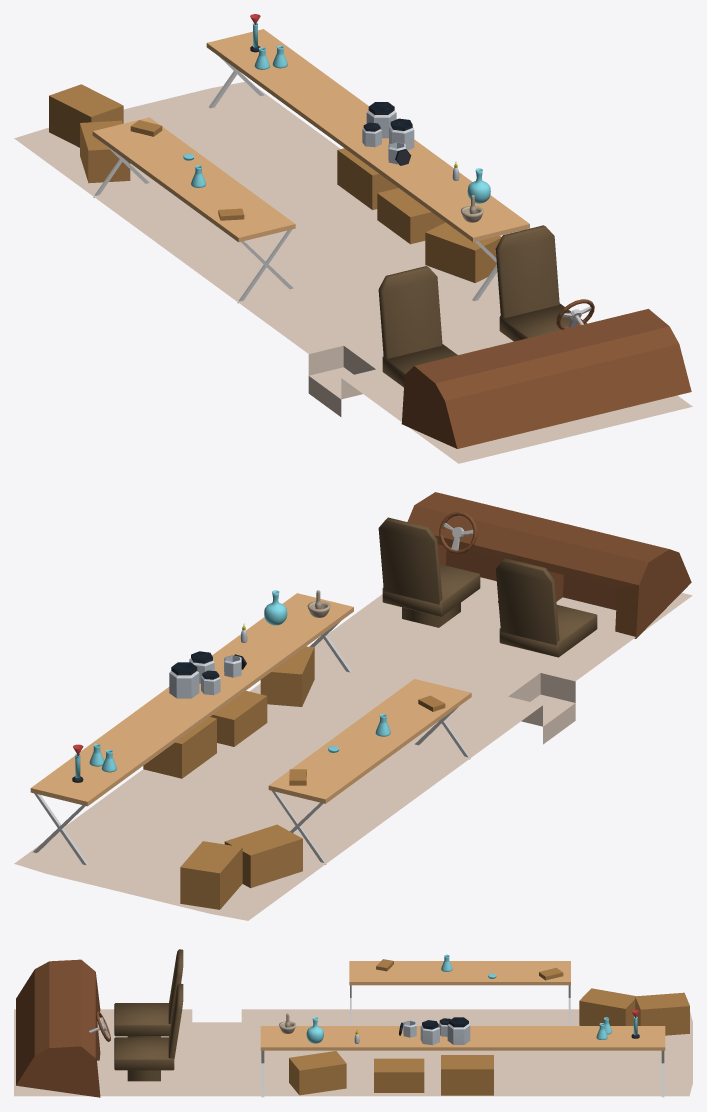
File: Carabana Br Ba interior Texturizado.fbx
3 views of the same model, one above another, from view 1: azimuth 30°, elevation 25°; view 2: azimuth 150°, elevation 25°; view 3: azimuth 270°, elevation 25° (orthographic). The views are drawn at different scales.
Visible parts, largest first — view 1: SueloInterior.001, Cabina.001, Mesa Larga, Sillas.001, Mesa Corta, Cajas.001, Cajas.003, Cajas.005, Cajas.002, Cajas.004, Tarros.005; view 2: SueloInterior.001, Cabina.001, Mesa Larga, Sillas.001, Mesa Corta, Cajas.003, Cajas.002, Cajas.004, Cajas.001, Cajas.005, Tarros.005; view 3: SueloInterior.001, Cabina.001, Mesa Larga, Sillas.001, Mesa Corta, Cajas.004, Cajas.001, Cajas.003, Cajas.002, Cajas.005, Tarros.005, Tarros.007 (+1 smaller).
Boxes of the visible parts, x1,y1,x2,y2 form: SueloInterior.001: (14, 82, 692, 463); Cabina.001: (401, 299, 691, 448); Mesa Larga: (206, 29, 529, 301); Sillas.001: (378, 225, 586, 387); Mesa Corta: (92, 117, 295, 303); Cajas.001: (425, 222, 501, 282); Cajas.003: (49, 84, 123, 147); Cajas.005: (377, 188, 445, 244); Cajas.002: (80, 120, 130, 183); Cajas.004: (337, 148, 398, 209); Tarros.005: (366, 102, 396, 138); SueloInterior.001: (14, 577, 692, 920); Cabina.001: (407, 492, 691, 638); Mesa Larga: (30, 593, 353, 865); Sillas.001: (378, 517, 597, 657); Mesa Corta: (268, 679, 471, 864); Cajas.003: (180, 841, 242, 909); Cajas.002: (224, 824, 302, 888); Cajas.004: (143, 717, 216, 778); Cajas.001: (260, 646, 314, 706); Cajas.005: (210, 691, 267, 746); Tarros.005: (169, 662, 199, 698); SueloInterior.001: (14, 1009, 692, 1096); Cabina.001: (16, 959, 110, 1097); Mesa Larga: (260, 1026, 665, 1097); Sillas.001: (114, 949, 183, 1081); Mesa Corta: (349, 961, 570, 1025); Cajas.004: (441, 1055, 493, 1095); Cajas.001: (289, 1051, 346, 1095); Cajas.003: (635, 992, 689, 1035); Cajas.002: (579, 988, 635, 1025); Cajas.005: (374, 1058, 424, 1092); Tarros.005: (447, 1017, 470, 1044); Tarros.007: (420, 1020, 439, 1045).
Size of the model in its own units: 266 by 162 by 879.
